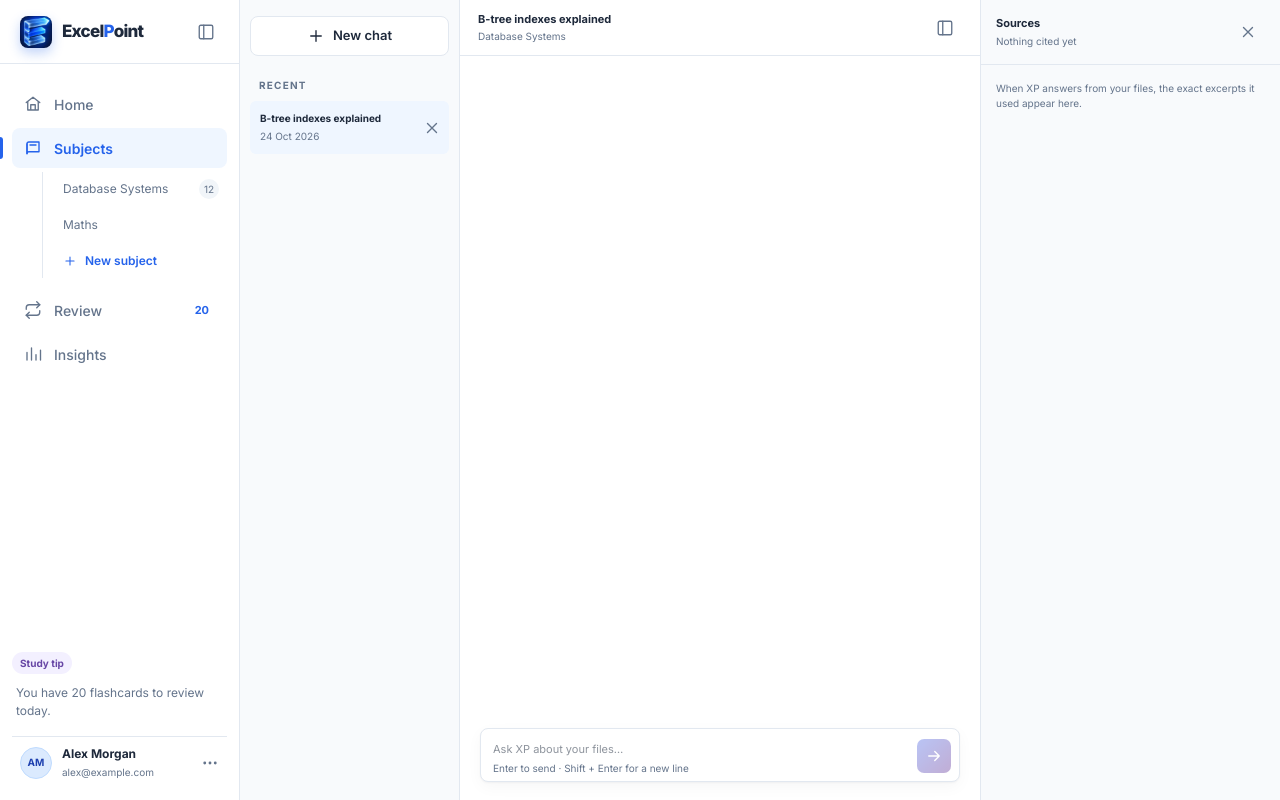
XP chat › shows the hourly limit and keeps the question
The image size is (1280, 800).
Type "One more question" into the text box labelled "Ask XP" at point(702, 749), box [493, 740, 911, 757]
Then press Enter
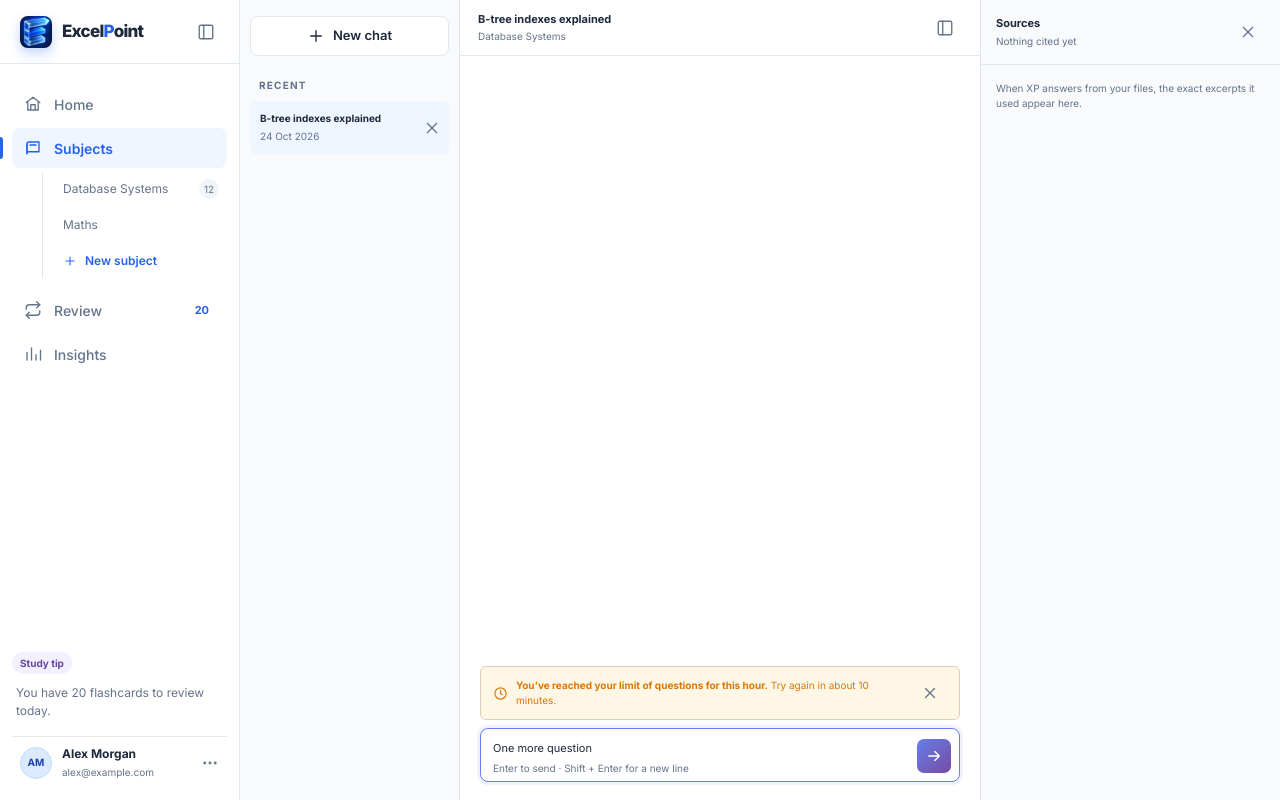
Expected: the text "You’ve reached your limit of questions for this hour." is shown, [516, 679, 768, 691]
Expected: the text "Try again in about 10 minutes" is shown, [516, 679, 869, 706]
